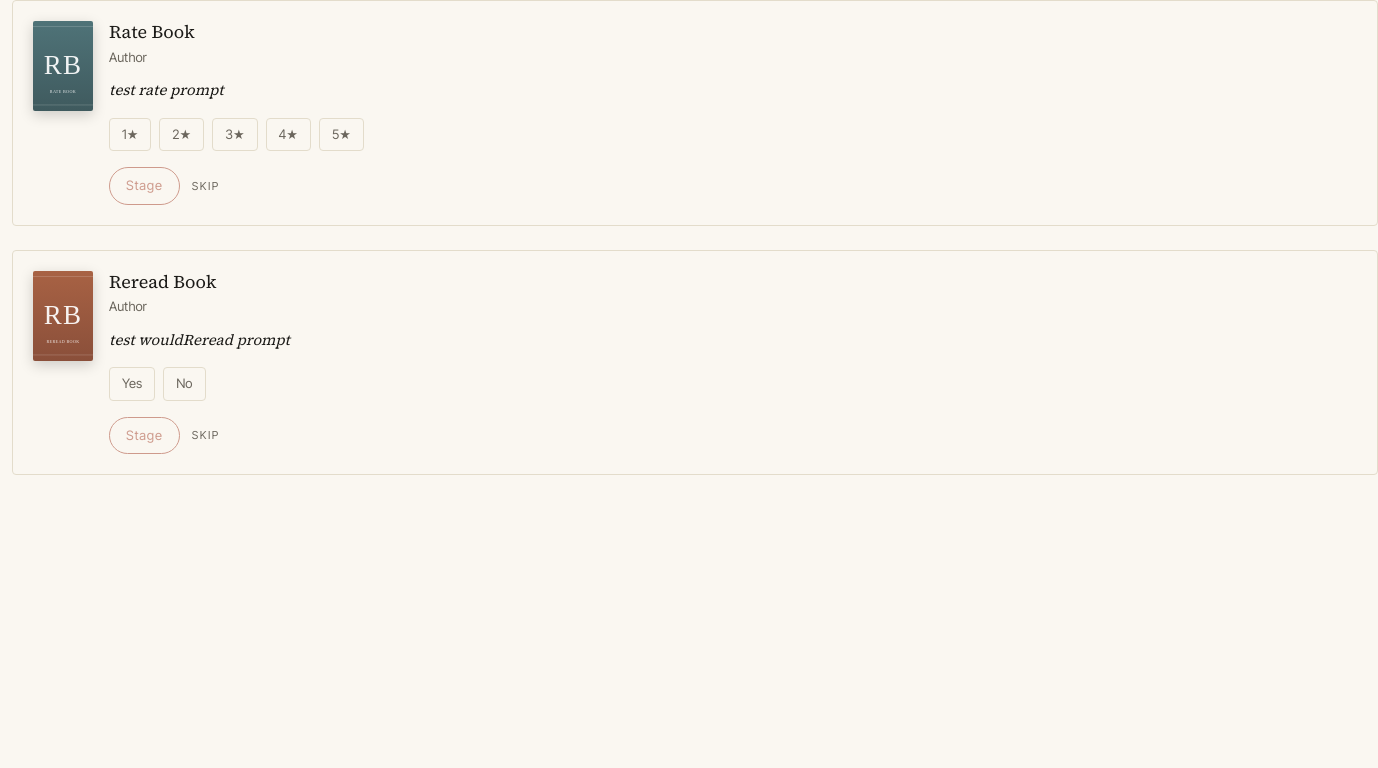
BackfillCards — staging UI › Send all POSTs the staged patches as a single batched body
Click the button named "4 stars": (288, 134) 266,118 -> 311,151
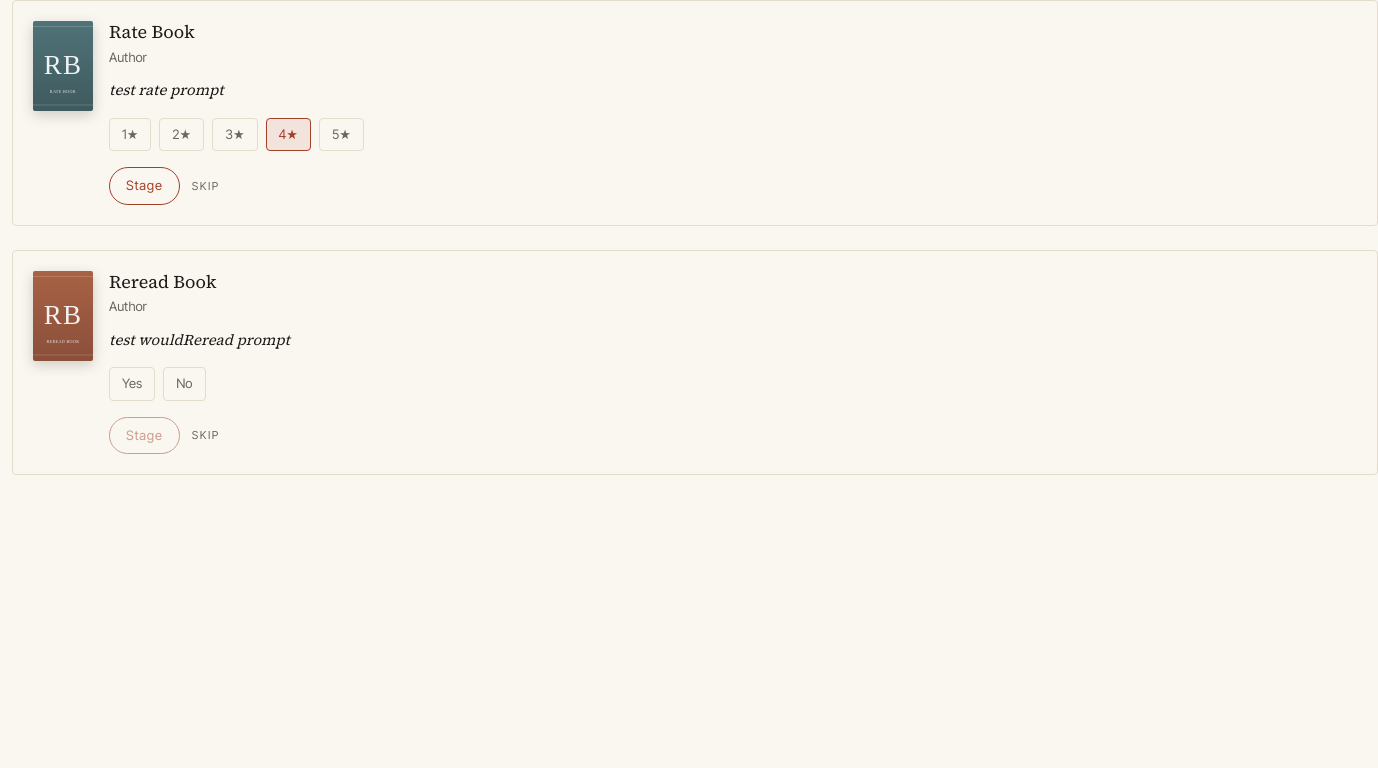
Click the button "Stage" below "test rate prompt": (144, 186) 109,167 -> 180,204
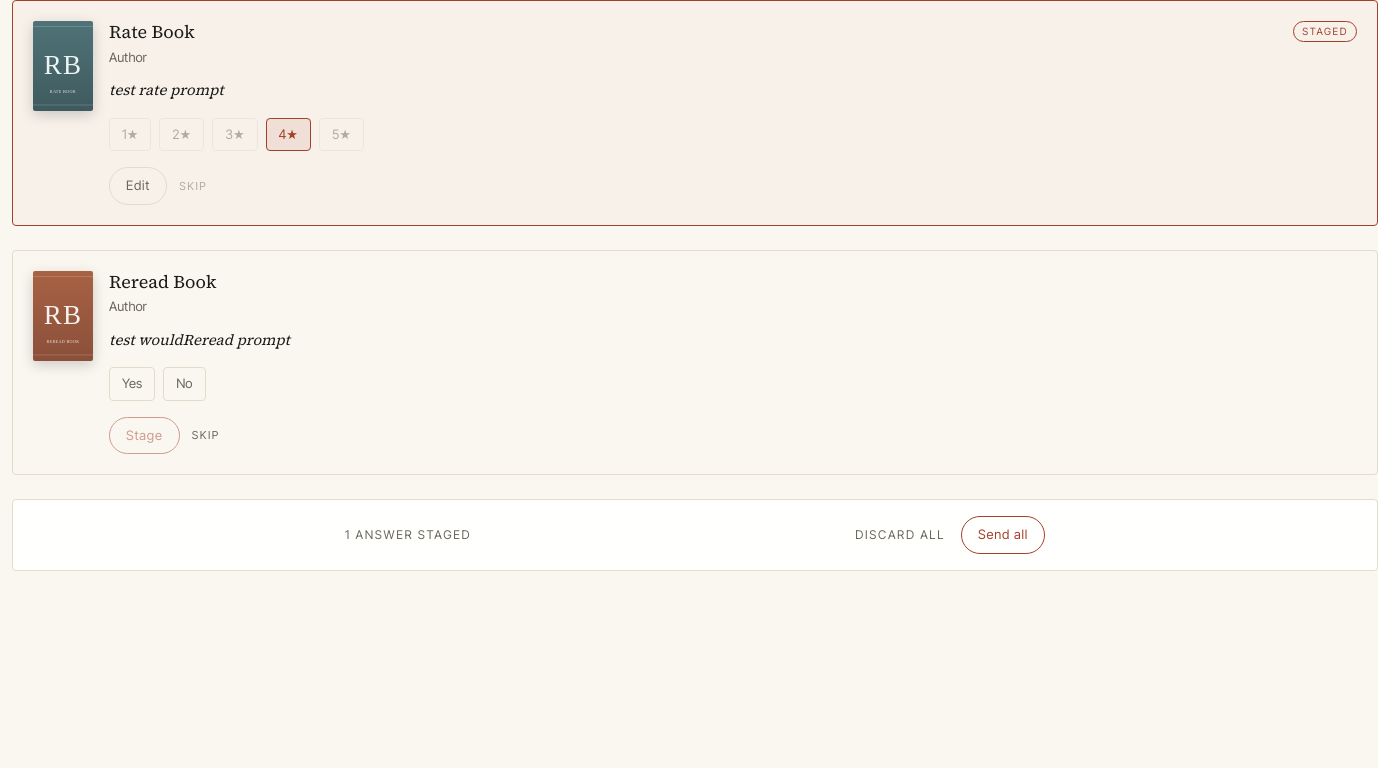
Click the button "Yes": (132, 384) 109,367 -> 155,400
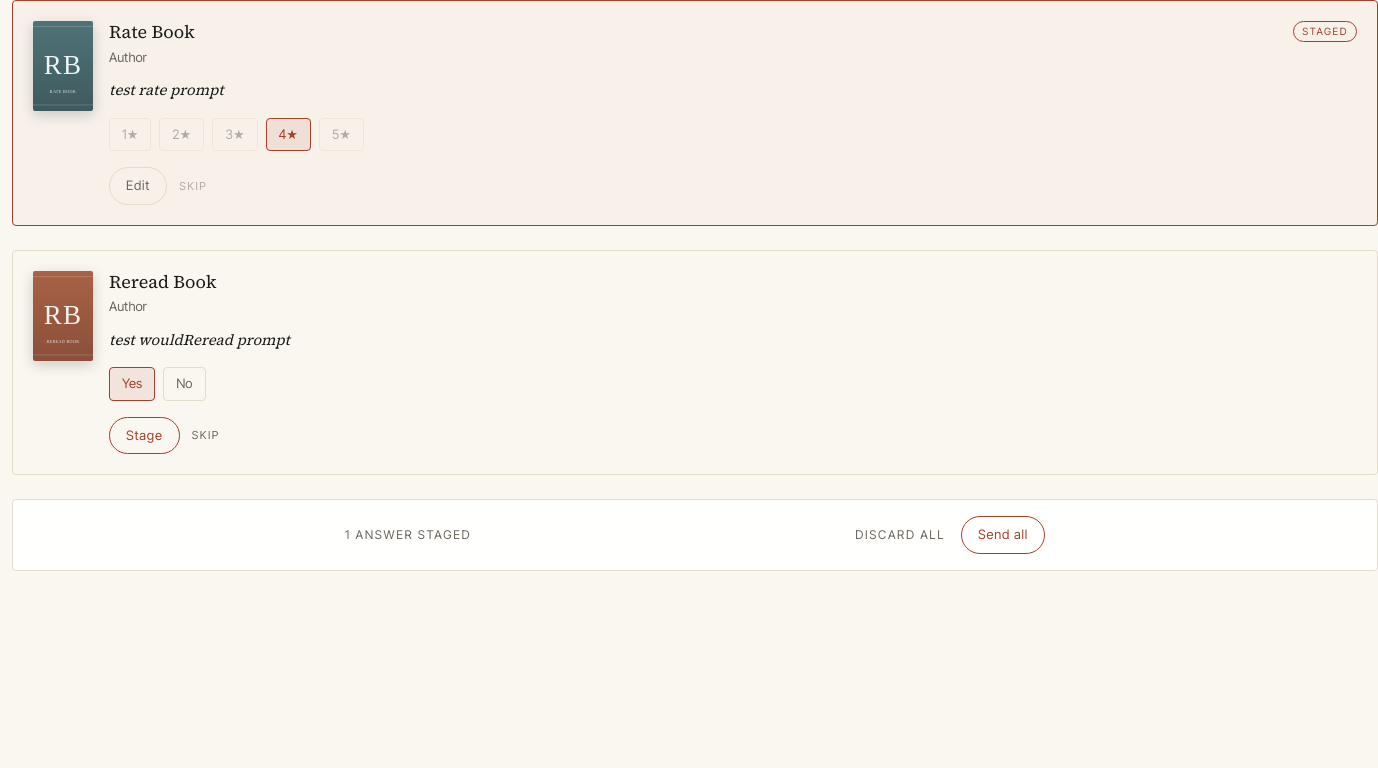
Click the button "Stage": (144, 435) 109,416 -> 180,454
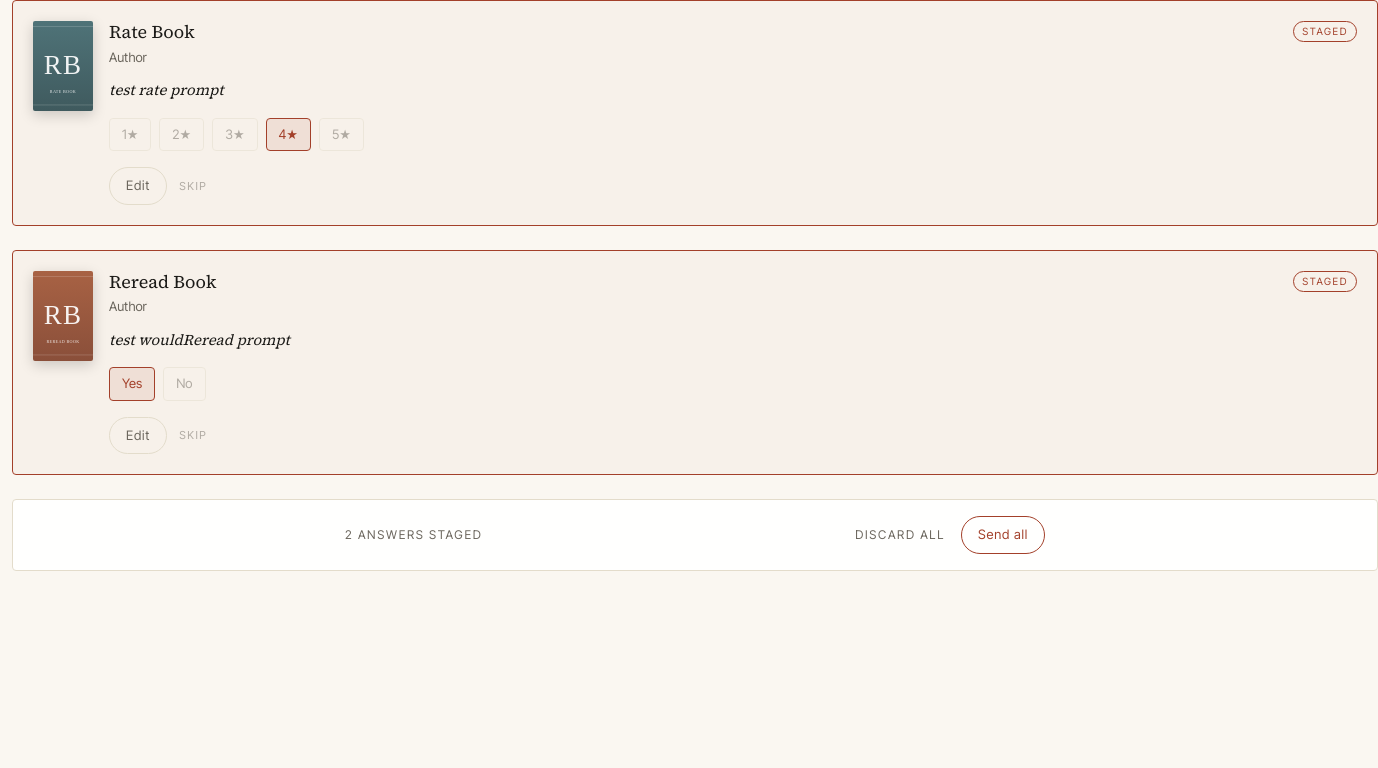
Click the button "Send all": (1003, 535) 961,516 -> 1045,554
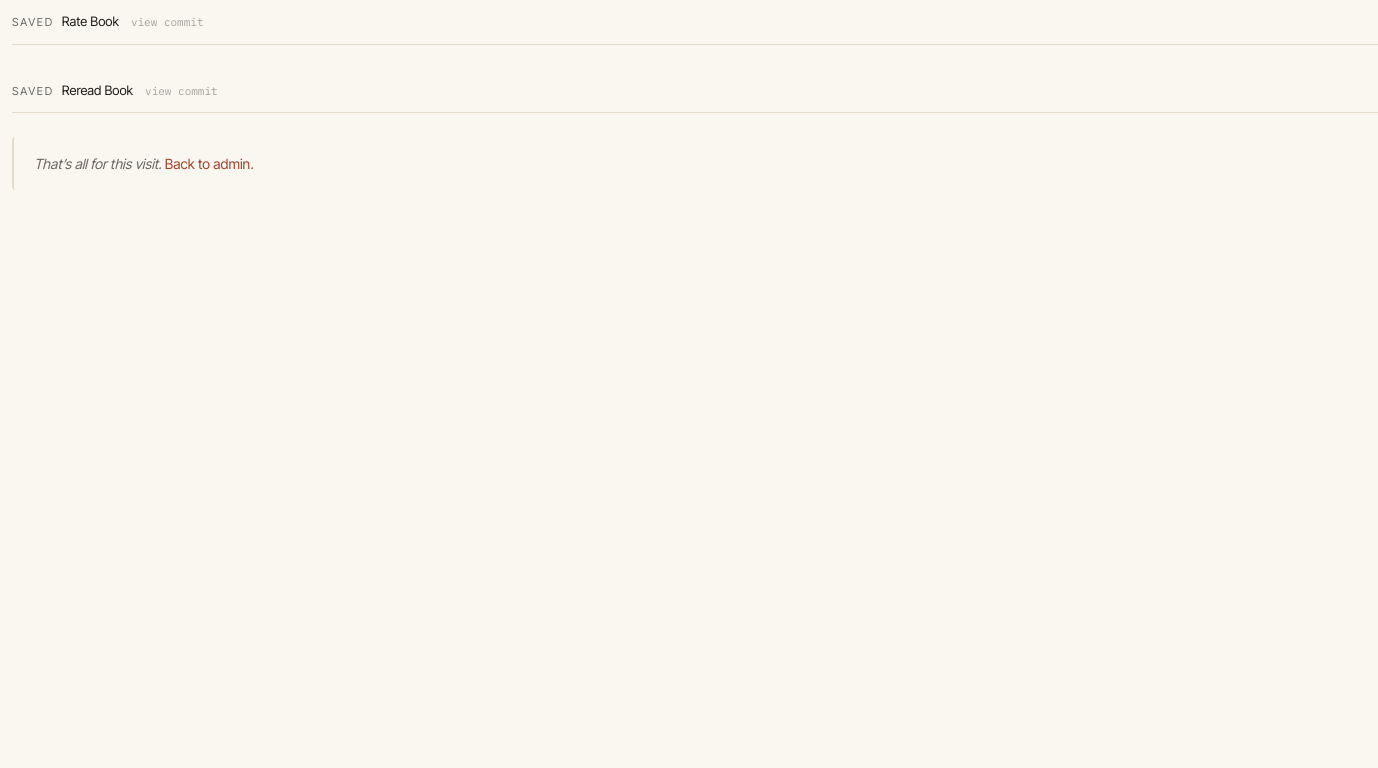
Now the text "saved" is shown 2 times, box 12,15 -> 54,29; 12,84 -> 54,98
